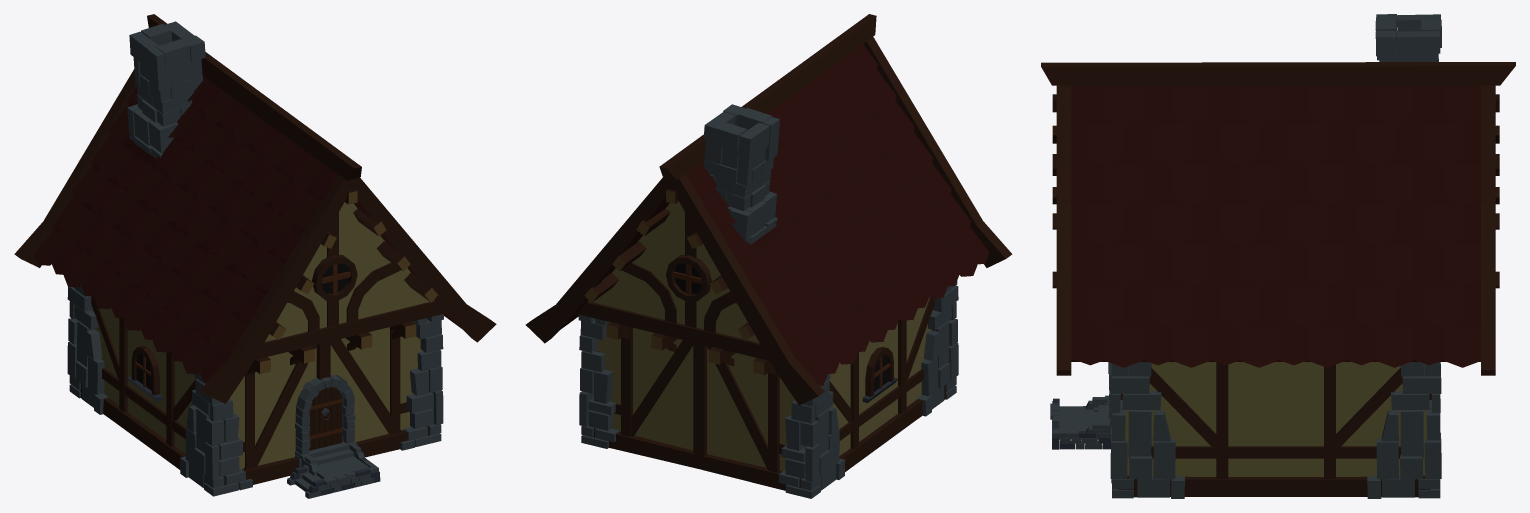
File: Blacksmith.fbx
3 views of the same model, side by side, from view 1: azimuth 30°, elevation 25°; view 2: azimuth 150°, elevation 25°; view 3: azimuth 270°, elevation 25° (orthographic). The views are drawn at different scales.
Parts seen in each view (by area): view 1: Blacksmith; view 2: Blacksmith; view 3: Blacksmith.
Part boxes in pixels (x1,y1,x2,y2): Blacksmith: [14, 14, 496, 498]; Blacksmith: [525, 14, 1012, 498]; Blacksmith: [1041, 14, 1515, 498].
Size of the model in its own units: 265 by 300 by 328.
